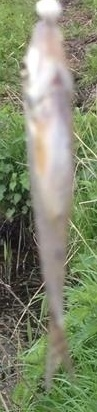Gobio gobio: (20, 20, 77, 392)
